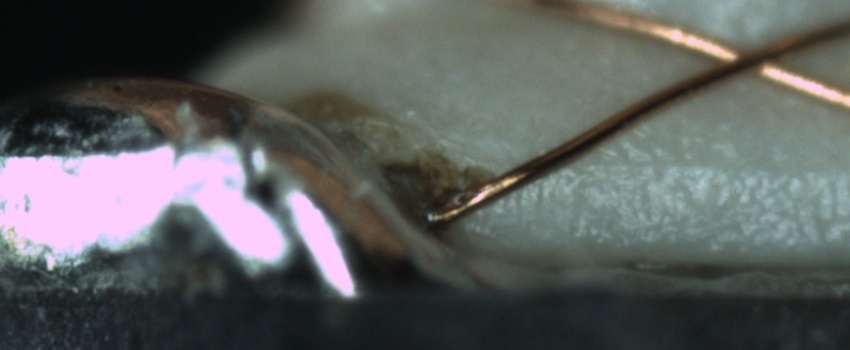CL: (685, 26, 812, 89)
DL: (573, 130, 849, 194)
